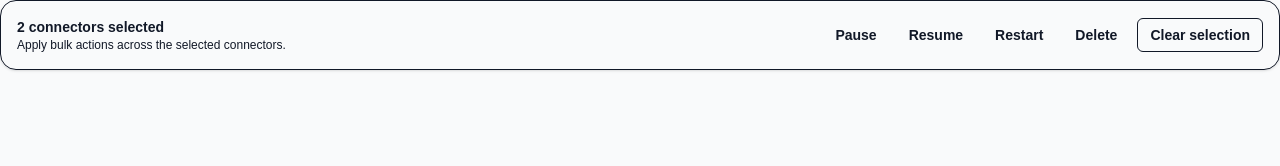
it: ConnectorBulkActions › shows failures and keeps selection when some actions fail
The width and height of the screenshot is (1280, 166).
Click the button "Restart" at point(1019, 35), box [983,19,1055,51]
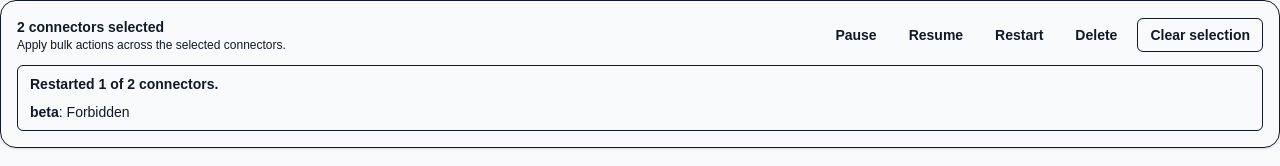
expect the text "Restarted 1 of 2 connectors." is shown: met, box [30,76,218,92]
expect the list item "beta" shows "Forbidden": met, box [67,104,130,120]
